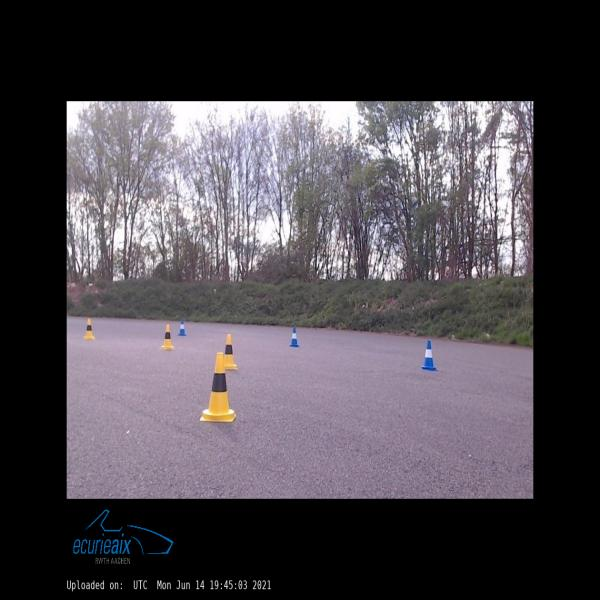blue_cone: (422, 341, 436, 371), (290, 327, 299, 347), (178, 320, 186, 335)
yellow_cone: (200, 353, 235, 421), (224, 334, 238, 369), (162, 324, 174, 348), (84, 319, 94, 338)
